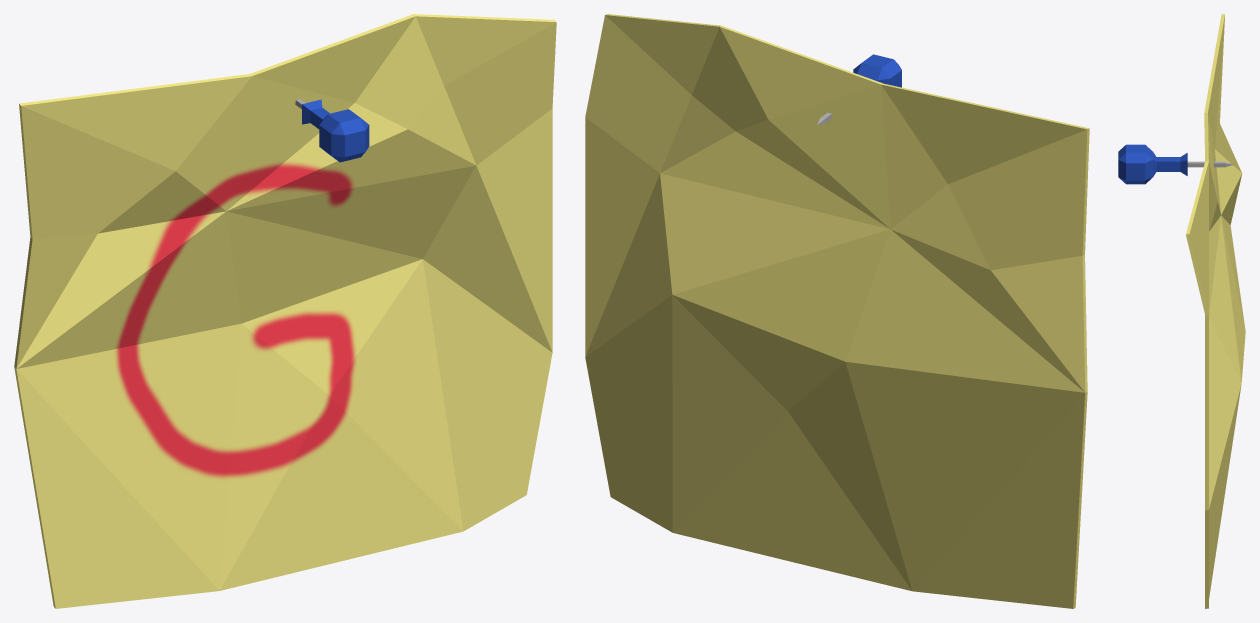
File: Paper Letter G.fbx
3 views of the same model, side by side, from view 1: azimuth 30°, elevation 25°; view 2: azimuth 150°, elevation 25°; view 3: azimuth 270°, elevation 25° (orthographic). The views are drawn at different scales.
Parts seen in each view (by area): view 1: Papier, Punaise; view 2: Papier, Punaise; view 3: Papier, Punaise.
Part boxes in pixels (x1,y1,x2,y2): Papier: (14, 14, 556, 608); Punaise: (295, 99, 369, 162); Papier: (585, 14, 1089, 608); Punaise: (817, 54, 901, 124); Papier: (1186, 14, 1245, 608); Punaise: (1118, 144, 1233, 184).
Size of the model in its own units: 208 by 200 by 54.89.
